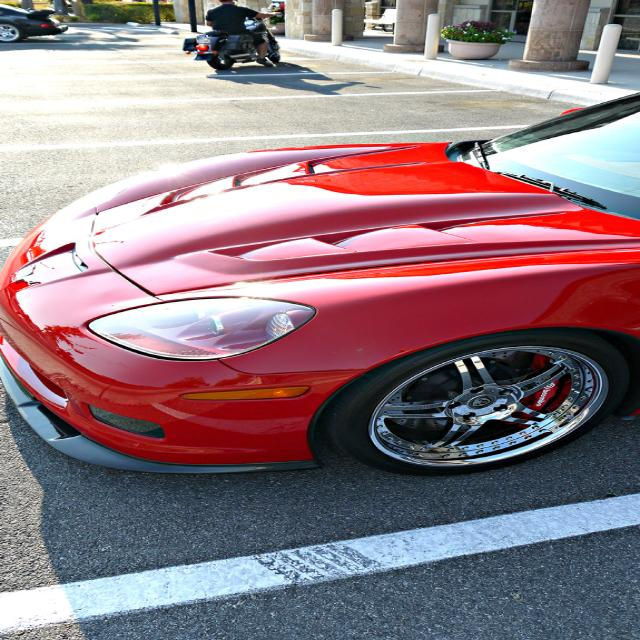Motorbikes: (184, 0, 296, 70)
Passenger Car: (3, 90, 640, 476), (2, 0, 69, 44)
